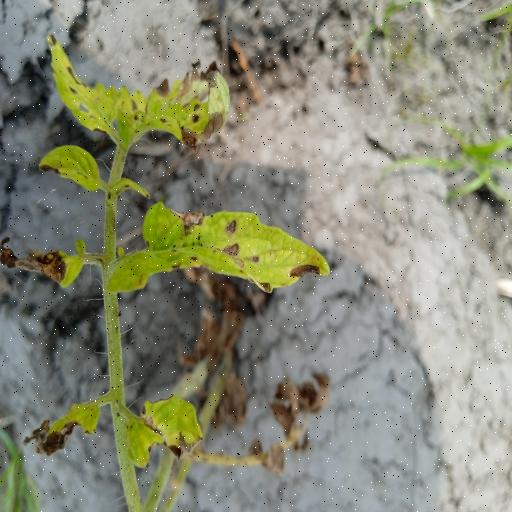Tomato_Brown_Spots: (40, 26, 235, 152), (99, 201, 333, 299)
